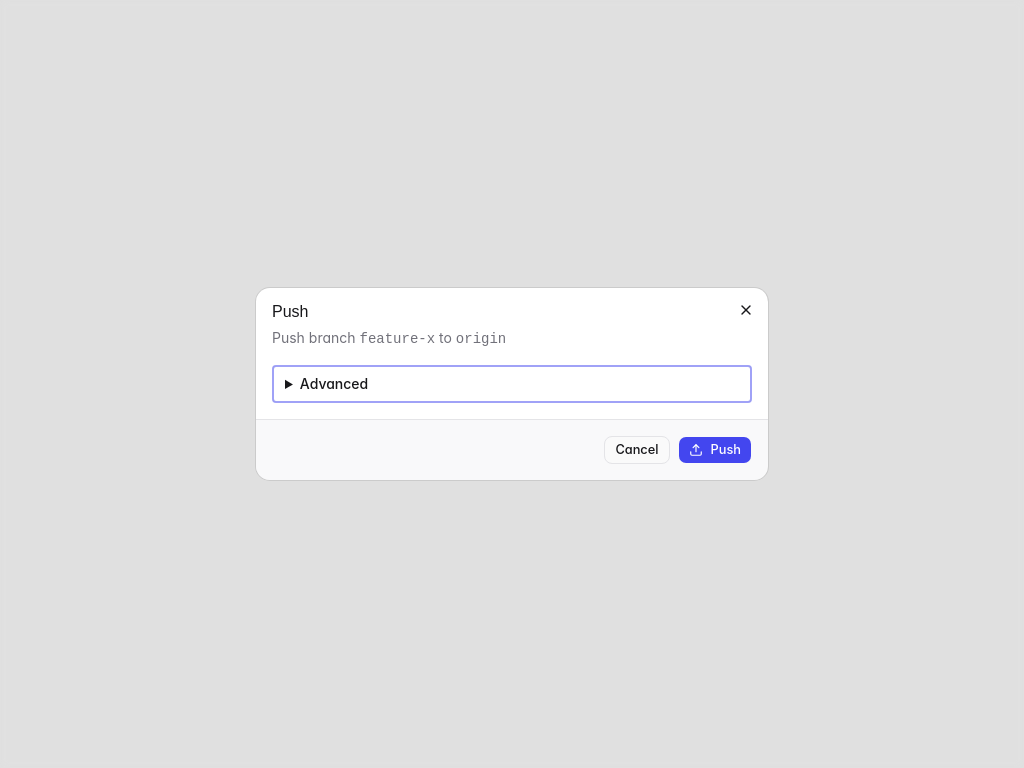
Scenario: GitPushDialog — Advanced disclosure › expands when the summary is clicked, exposing the force-zone and set-upstream toggle
This screenshot has width=1024, height=768.
Click the heading with test id "git-push-dialog-advanced-toggle".
click(334, 384)  # box [300,375,368,392]
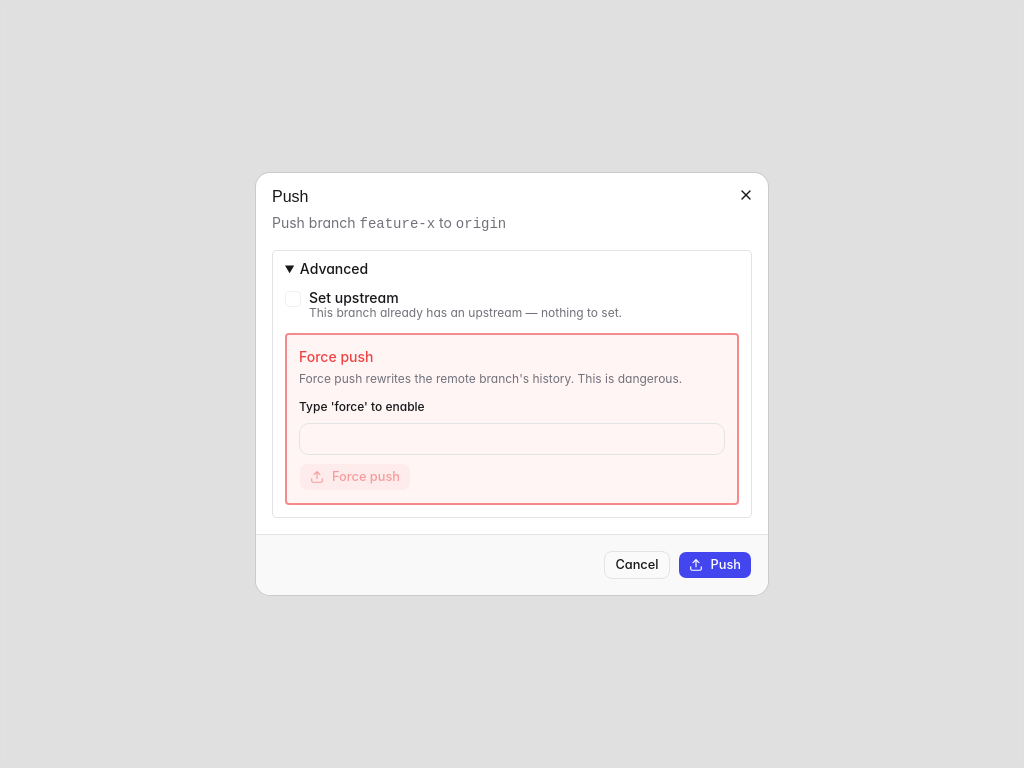
Result: the element with test id "git-push-dialog-force-zone" is shown at [285,333,739,505]
